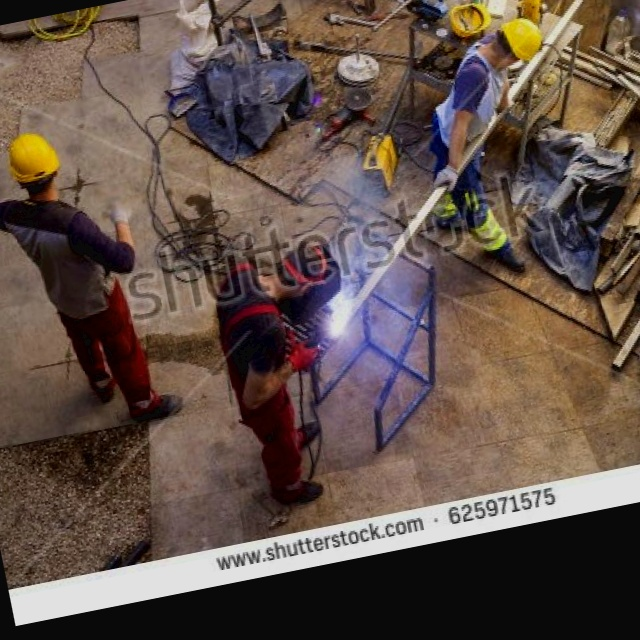Con_Casco: (5, 128, 64, 201), (496, 16, 545, 66), (448, 0, 494, 39)
